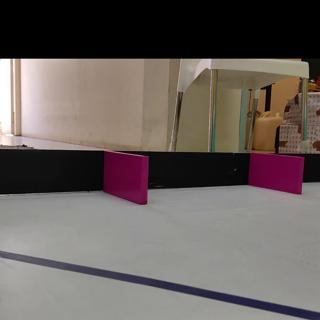xparking: (107, 157, 147, 204), (251, 157, 301, 194)
